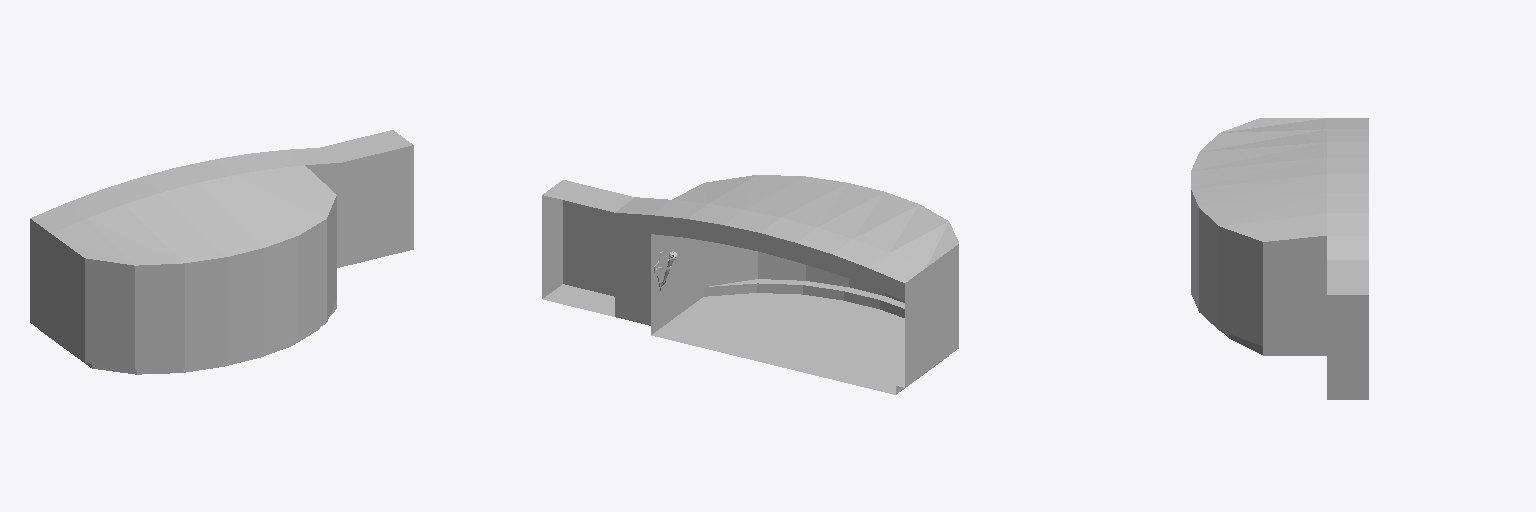
The model's file is catacomb_end_1.obj.
The picture shows the model from 3 angles: view 1: azimuth 30°, elevation 25°; view 2: azimuth 150°, elevation 25°; view 3: azimuth 270°, elevation 25°; orthographic projection.
Parts seen in each view (by area): view 1: catacomb_end_1; view 2: catacomb_end_1, catacomb_end_1 main_pillar_1; view 3: catacomb_end_1.
Part boxes in pixels (x1,y1,x2,y2): catacomb_end_1: (30,130,413,374); catacomb_end_1: (542,175,958,394); catacomb_end_1 main_pillar_1: (615,213,904,325); catacomb_end_1: (1191,118,1368,399).
Bounding box in the file's own units: 10 × 3.4 × 4.25.